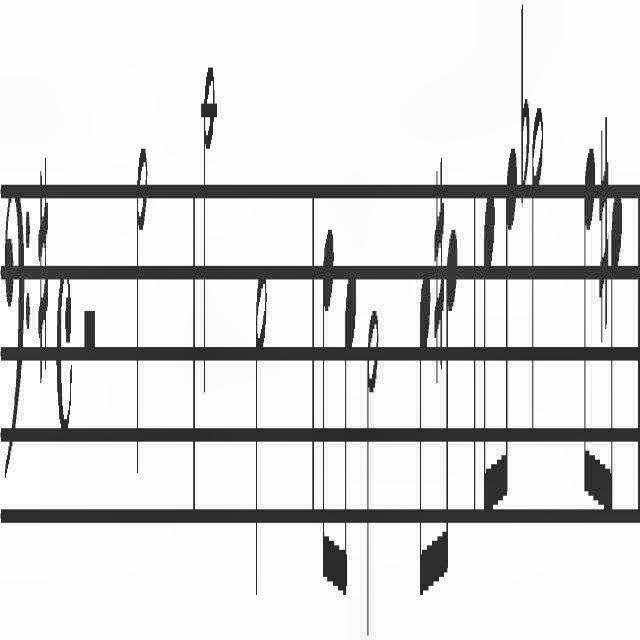Bemol: (520, 0, 530, 214)
Diez: (434, 149, 446, 403), (37, 150, 49, 398), (598, 112, 610, 356)
Eighth-note: (319, 200, 337, 608), (338, 248, 358, 612), (610, 166, 626, 574), (502, 132, 518, 532), (444, 215, 460, 598), (581, 132, 595, 544), (416, 264, 432, 608), (481, 174, 495, 536)
Half-note: (134, 133, 150, 491), (254, 256, 270, 606), (202, 47, 216, 405), (532, 93, 544, 459), (366, 290, 378, 640)
